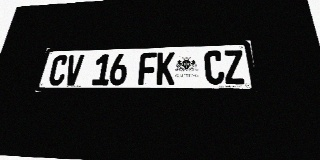1: (91, 54, 112, 85)
6: (108, 53, 128, 85)
C: (204, 50, 225, 85), (47, 55, 69, 86)
F: (138, 52, 157, 85)
K: (156, 52, 175, 85)
V: (63, 55, 84, 85)
Z: (223, 50, 246, 84)
